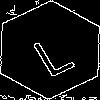L: (25, 25, 77, 79)
